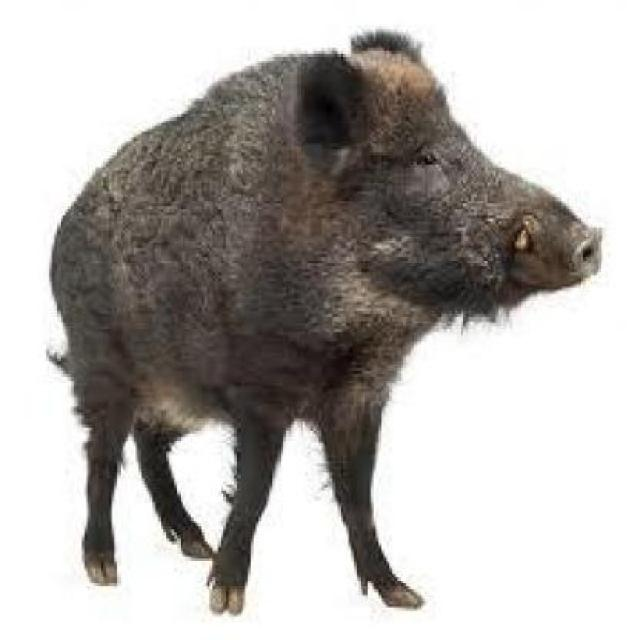wildboar: (42, 26, 609, 620)
